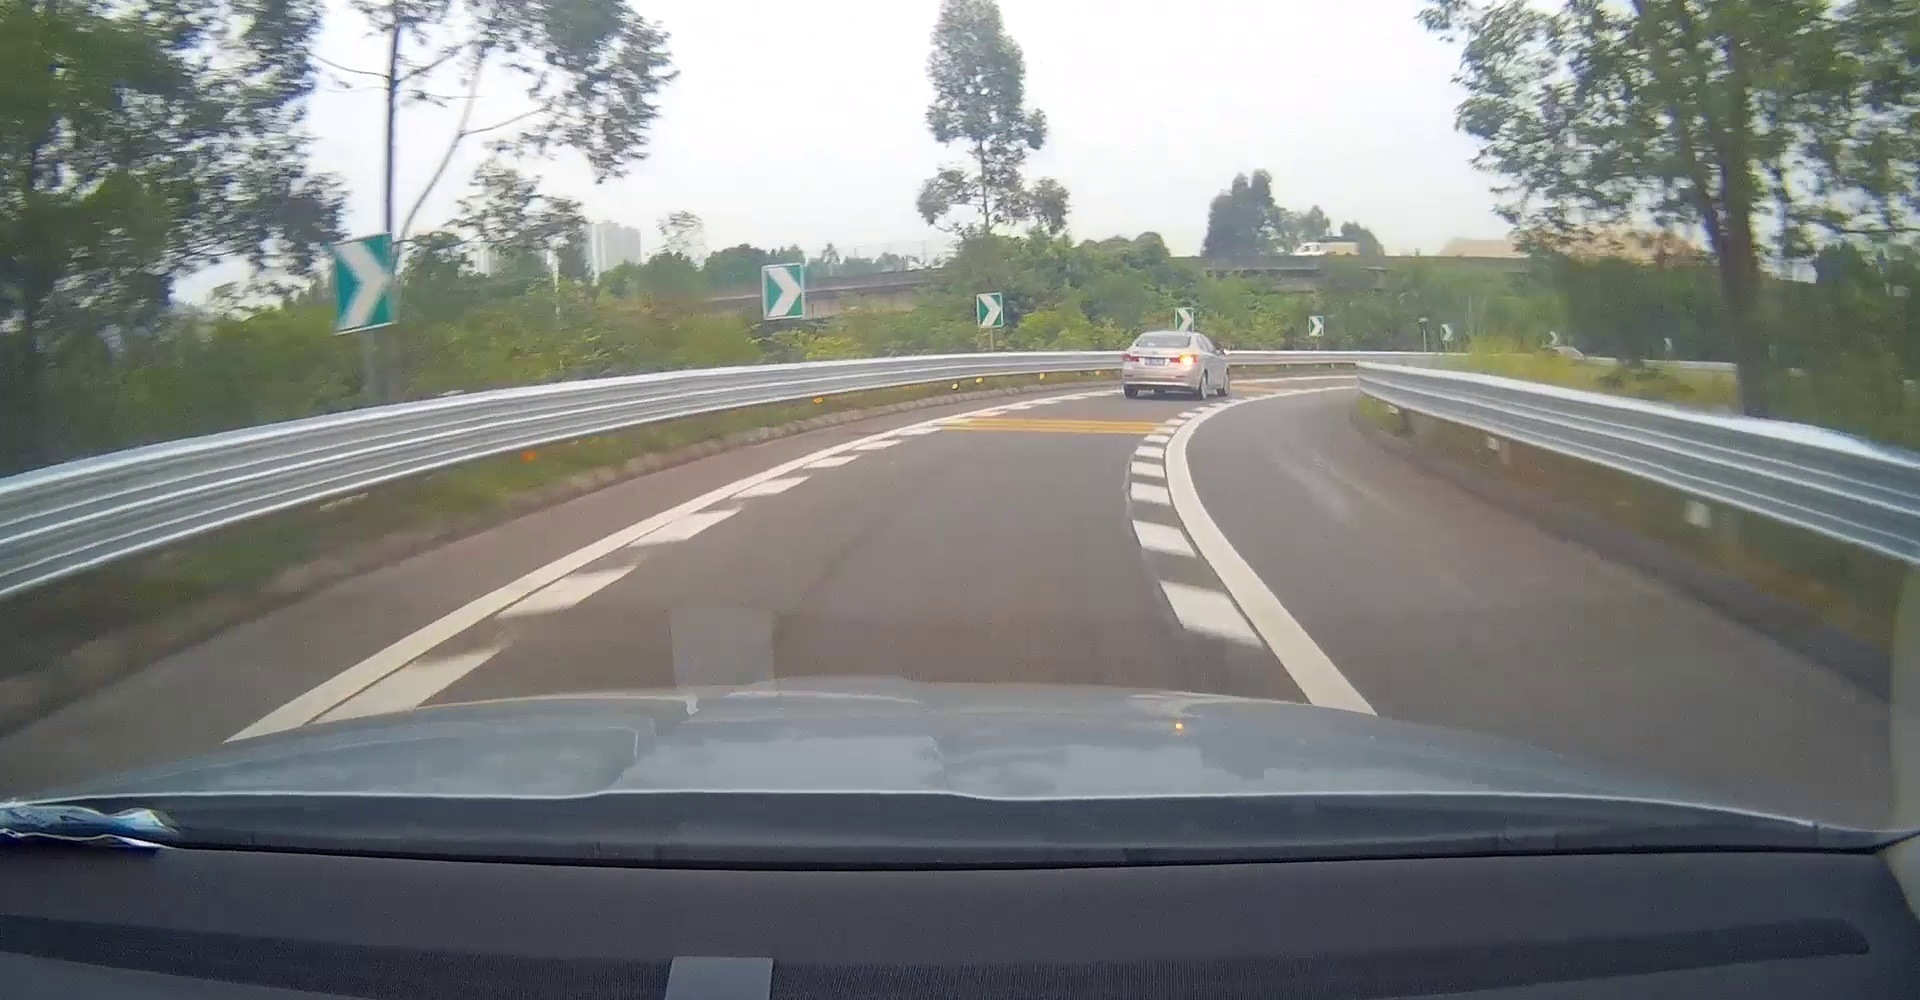L_light: (1123, 353, 1140, 362)
R_light: (1170, 354, 1196, 363)
T_light: (1161, 335, 1171, 338)
day-right: (1121, 330, 1199, 398)
